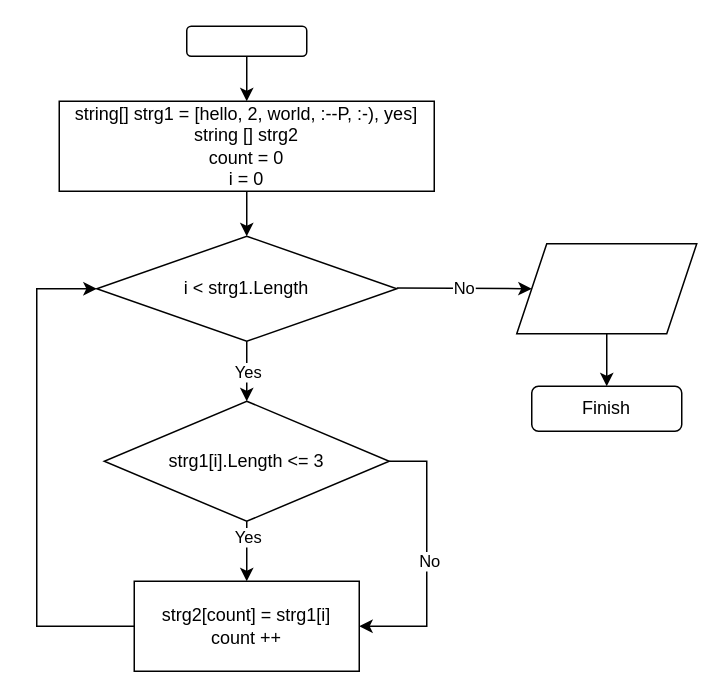
Image size: 723x698. Some labels were removed from this diagram. The box of each missing label's shape, as (x1, y1, x2, y2) in pixels:
print (strg2): (515, 242, 697, 334)
Start: (185, 25, 307, 56)
